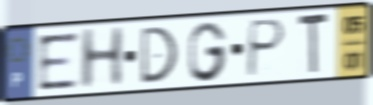D: (138, 24, 180, 87)
E: (35, 29, 81, 93)
G: (186, 19, 229, 84)
H: (77, 24, 127, 93)
P: (244, 16, 289, 80)
T: (296, 10, 331, 79)
